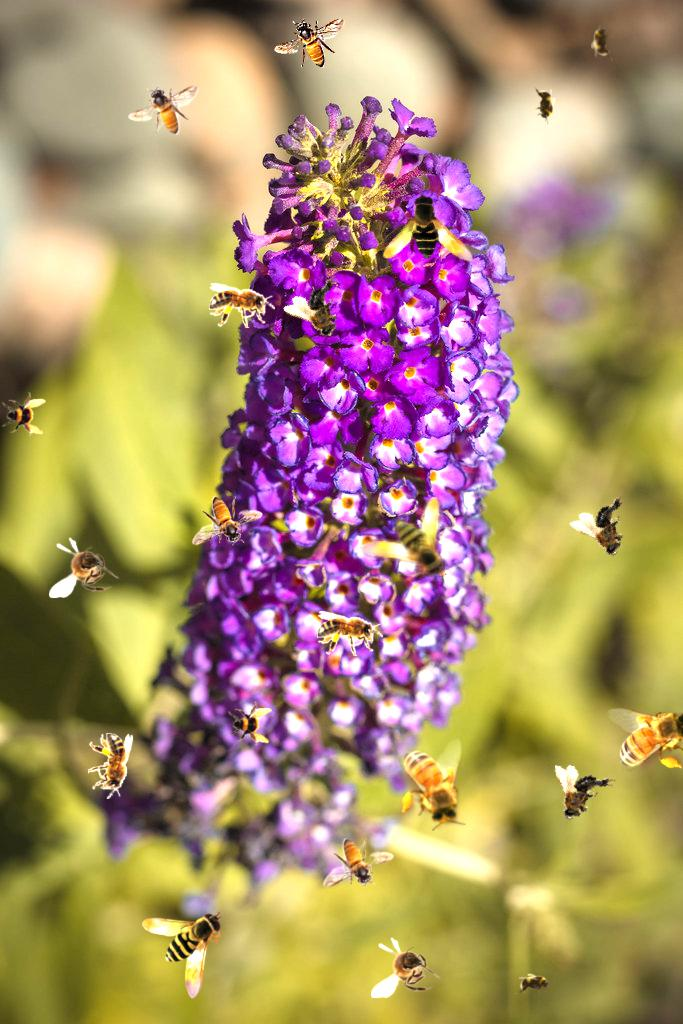Bee: (373, 184, 493, 304), (359, 497, 447, 579), (142, 911, 224, 999), (281, 271, 362, 351), (398, 738, 466, 831), (567, 490, 648, 568), (607, 704, 683, 772), (544, 762, 617, 828), (371, 937, 441, 998), (49, 537, 119, 598), (274, 18, 345, 68), (192, 496, 263, 546), (323, 838, 394, 888), (128, 85, 199, 135), (209, 283, 275, 328), (88, 733, 133, 799), (317, 611, 383, 656), (228, 701, 272, 745), (2, 392, 46, 436), (515, 973, 555, 995), (591, 21, 613, 61), (534, 85, 556, 125)
